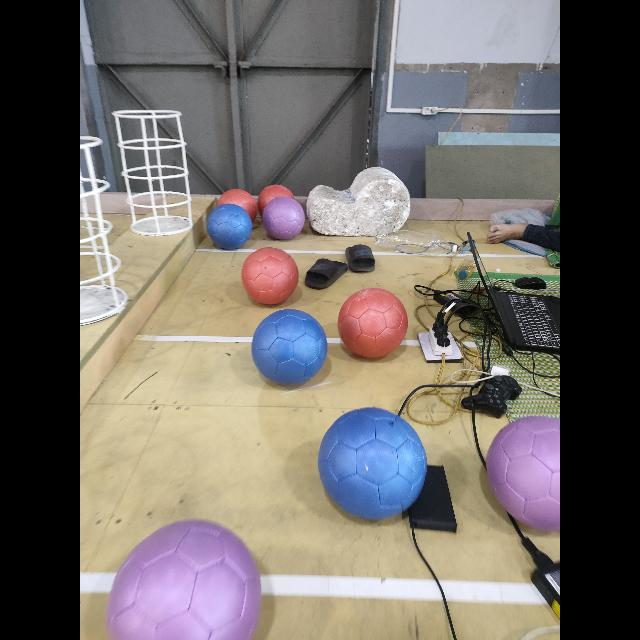B: (318, 408, 426, 518), (251, 310, 327, 384), (208, 203, 252, 249)
P: (107, 520, 260, 640), (486, 416, 560, 530), (263, 197, 305, 240)
R: (338, 288, 408, 358), (242, 248, 298, 304), (218, 188, 258, 222), (258, 184, 294, 213)
S: (110, 101, 198, 241), (80, 133, 130, 334)
